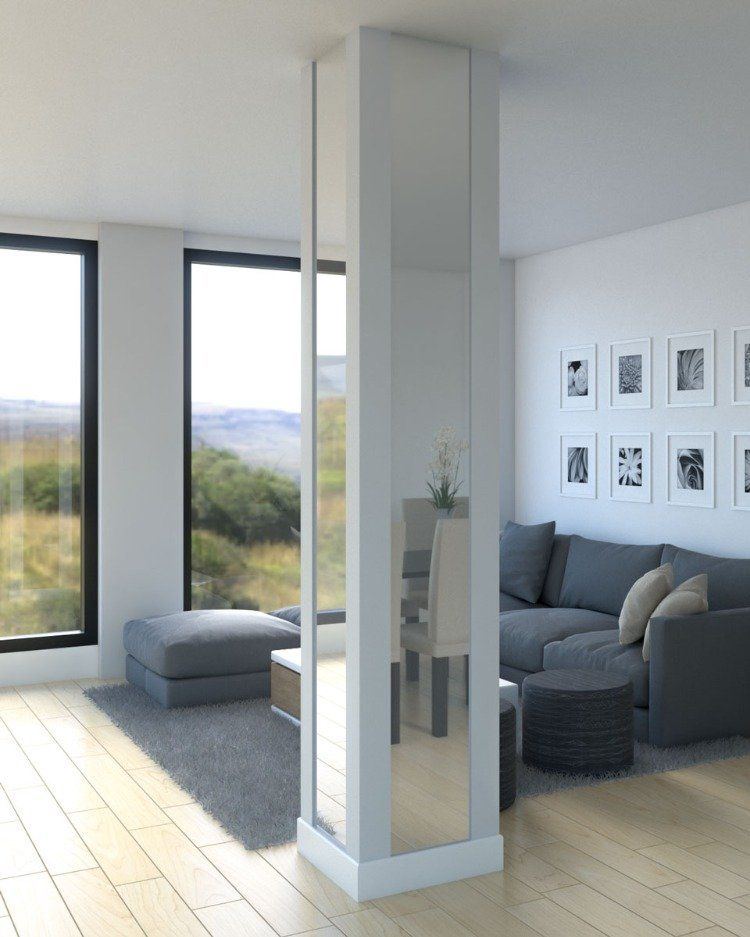pillar: (298, 27, 499, 897)
wall: (1, 216, 517, 687), (520, 202, 747, 686)
window: (181, 252, 300, 624), (1, 234, 97, 654)
